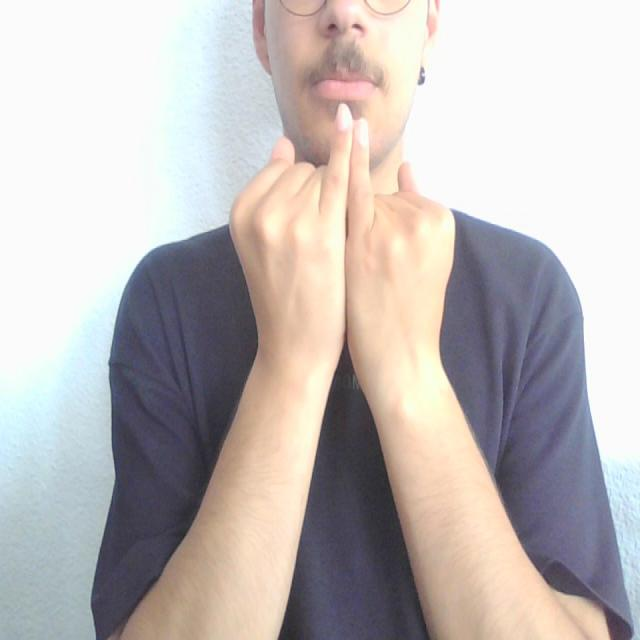Kardes: (227, 100, 457, 377)
